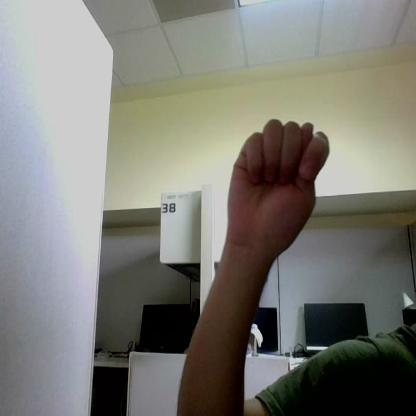T: (228, 119, 329, 248)
